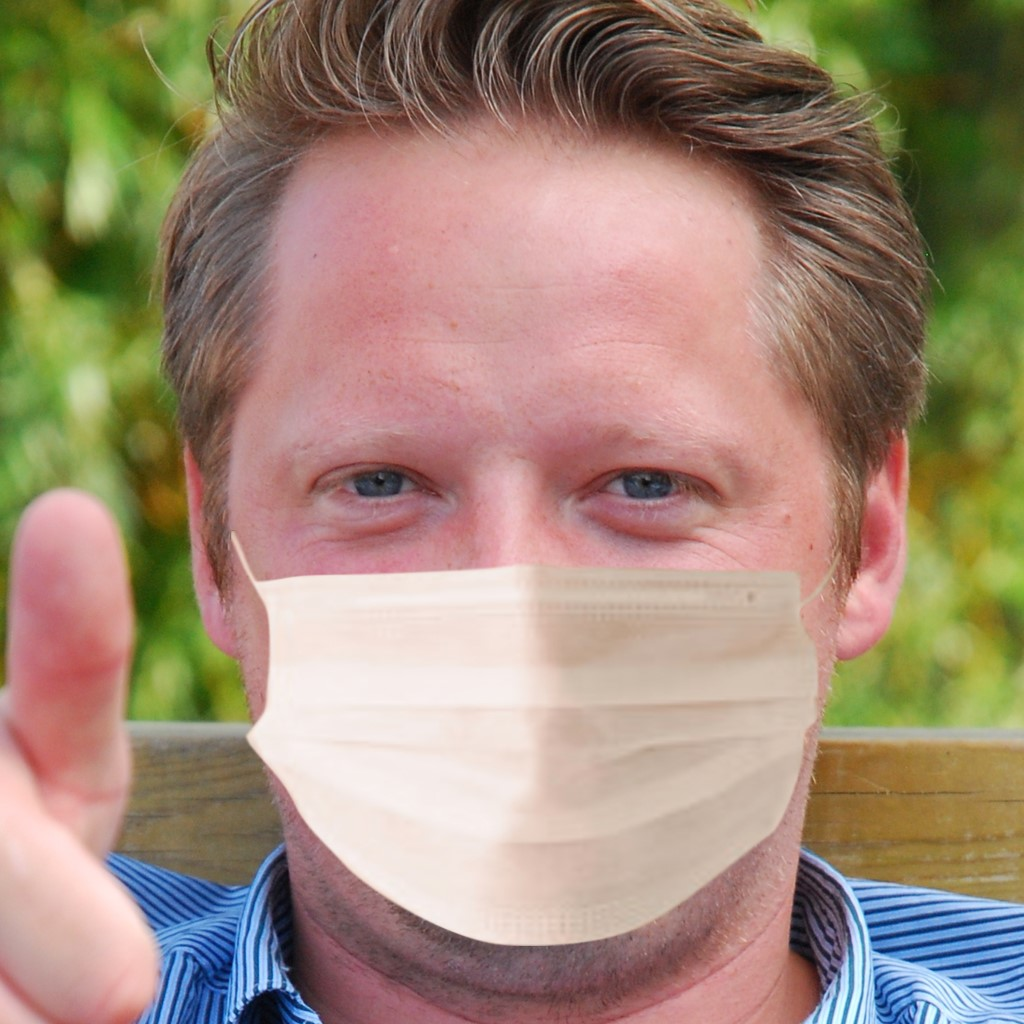con_mascara: (156, 61, 887, 959)
